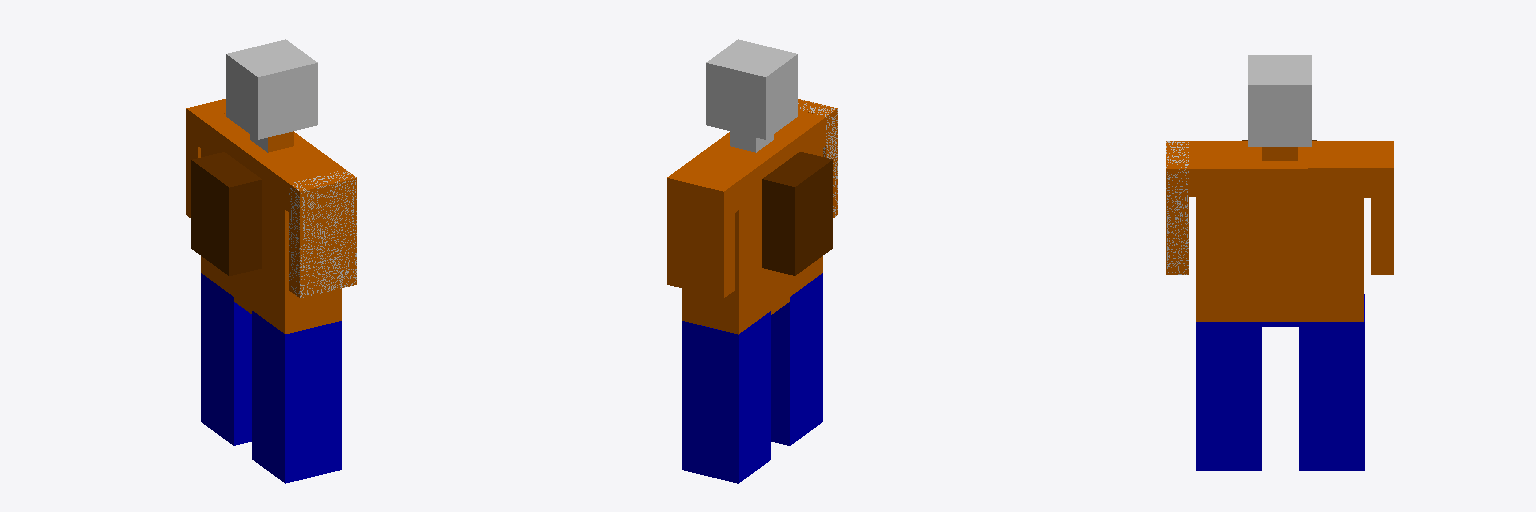
Rendered from person.obj.
3 views of the same model, side by side, from view 1: azimuth 30°, elevation 25°; view 2: azimuth 150°, elevation 25°; view 3: azimuth 270°, elevation 25° (orthographic).
Parts seen in each view (by area): view 1: SketchUp_ID2, SketchUp.008_ID56, SketchUp.006_ID44, SketchUp.009_ID62, SketchUp.002_ID18, SketchUp.001_ID10; view 2: SketchUp_ID2, SketchUp.002_ID18, SketchUp.006_ID44, SketchUp.009_ID62, SketchUp.001_ID10, SketchUp.008_ID56, SketchUp.004_ID32; view 3: SketchUp.001_ID10, SketchUp_ID2, SketchUp.006_ID44, SketchUp.008_ID56, SketchUp.002_ID18.
Boxes of the visible parts, x1=… form: SketchUp_ID2: x1=201, y1=273, x2=341, y2=483; SketchUp.008_ID56: x1=289, y1=169, x2=356, y2=297; SketchUp.006_ID44: x1=226, y1=39, x2=317, y2=139; SketchUp.009_ID62: x1=191, y1=152, x2=261, y2=275; SketchUp.002_ID18: x1=186, y1=109, x2=288, y2=333; SketchUp.001_ID10: x1=186, y1=99, x2=344, y2=333; SketchUp_ID2: x1=682, y1=273, x2=822, y2=483; SketchUp.002_ID18: x1=667, y1=117, x2=825, y2=334; SketchUp.006_ID44: x1=706, y1=39, x2=797, y2=139; SketchUp.009_ID62: x1=762, y1=152, x2=832, y2=275; SketchUp.001_ID10: x1=667, y1=110, x2=824, y2=191; SketchUp.008_ID56: x1=798, y1=99, x2=837, y2=217; SketchUp.004_ID32: x1=730, y1=131, x2=773, y2=152; SketchUp.001_ID10: x1=1189, y1=141, x2=1393, y2=321; SketchUp_ID2: x1=1196, y1=294, x2=1364, y2=470; SketchUp.006_ID44: x1=1248, y1=55, x2=1311, y2=146; SketchUp.008_ID56: x1=1166, y1=141, x2=1188, y2=274; SketchUp.002_ID18: x1=1371, y1=168, x2=1393, y2=274.
Size of the model in its own units: 1.27 by 5.11 by 2.73.